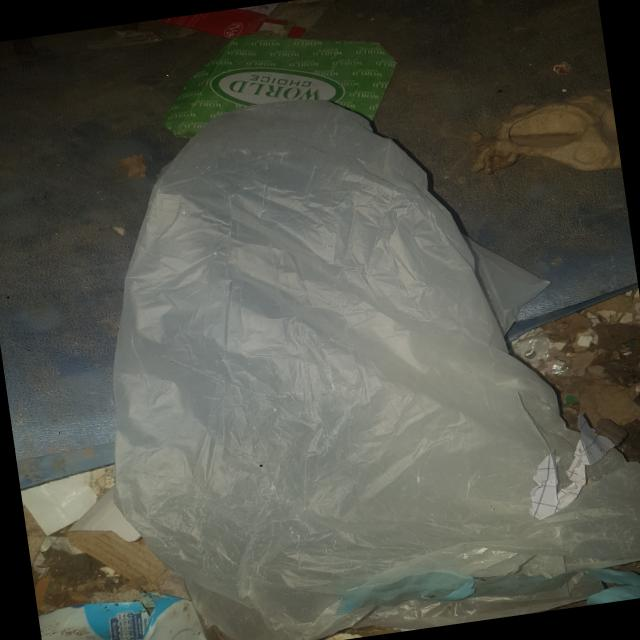electronic: (150, 12, 407, 152), (459, 84, 622, 190), (37, 582, 216, 640)
general: (61, 52, 640, 640)
